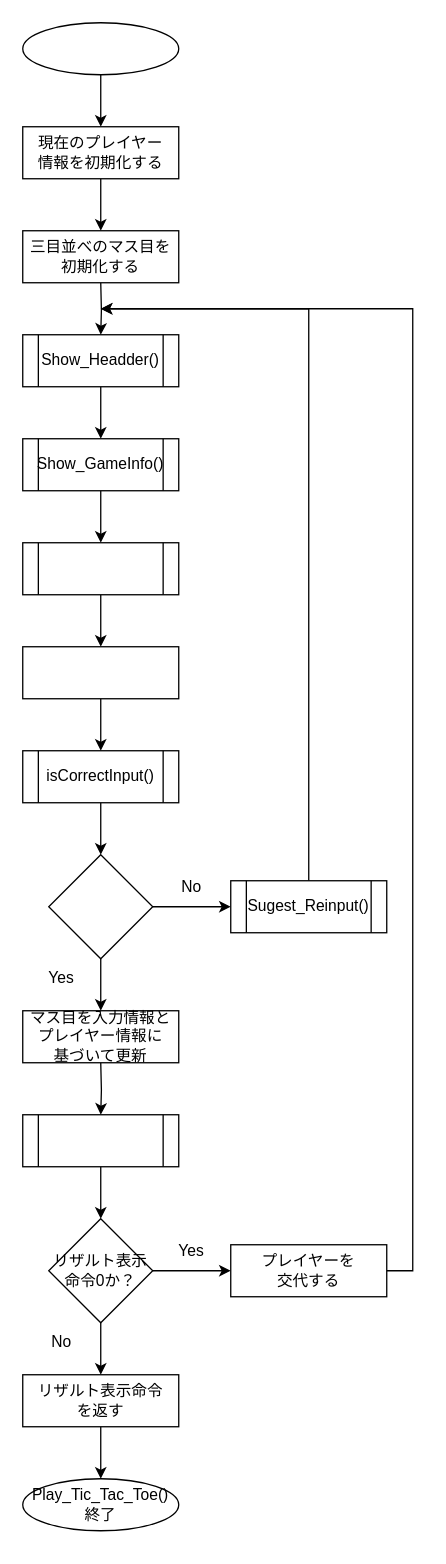
Image size: 446x1564. Some labels were removed from this diagram. The box of each missing label's shape, as (x1, y1, x2, y2) in pixels:
Get_Input(): (21, 541, 179, 595)
isCorrectInput() の返り値がTRUEか？: (47, 853, 153, 959)
isGameEnded(): (21, 1113, 179, 1167)
Play_Tic_Tac_Toe() 開始: (21, 21, 179, 75)
ターミナルの 出力を消す: (21, 645, 179, 699)
